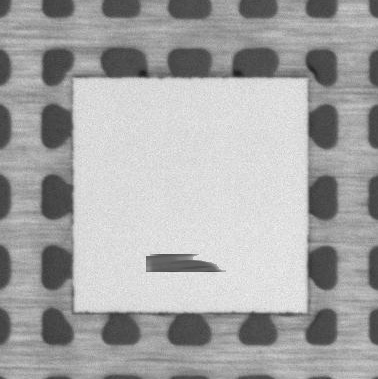DIE_INK: (146, 253, 222, 272)
